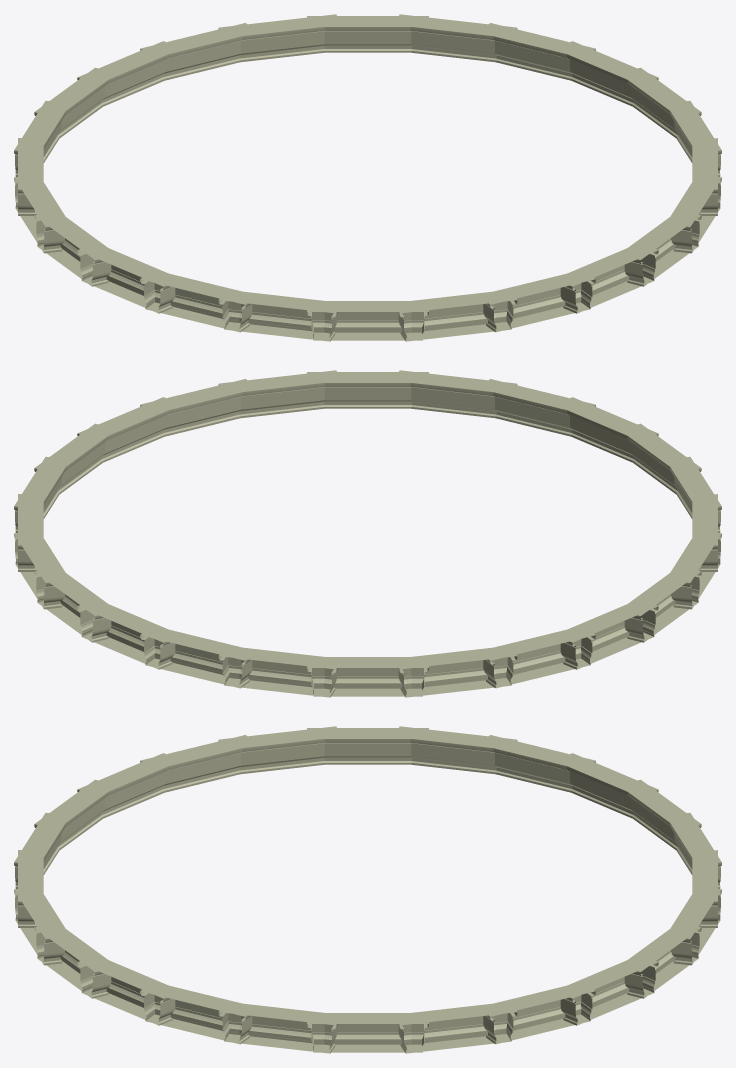
File: SM_castlealphabataseJoin.fbx
3 views of the same model, one above another, from view 1: azimuth 30°, elevation 25°; view 2: azimuth 150°, elevation 25°; view 3: azimuth 270°, elevation 25° (orthographic).
Parts seen in each view (by area): view 1: SM_castlealphabatbaseJoin; view 2: SM_castlealphabatbaseJoin; view 3: SM_castlealphabatbaseJoin.
Boxes of the visible parts, x1=… form: SM_castlealphabatbaseJoin: x1=14, y1=14, x2=721, y2=341; SM_castlealphabatbaseJoin: x1=14, y1=370, x2=721, y2=697; SM_castlealphabatbaseJoin: x1=14, y1=726, x2=721, y2=1053.
Size of the model in its own units: 4994 by 225 by 4994.
